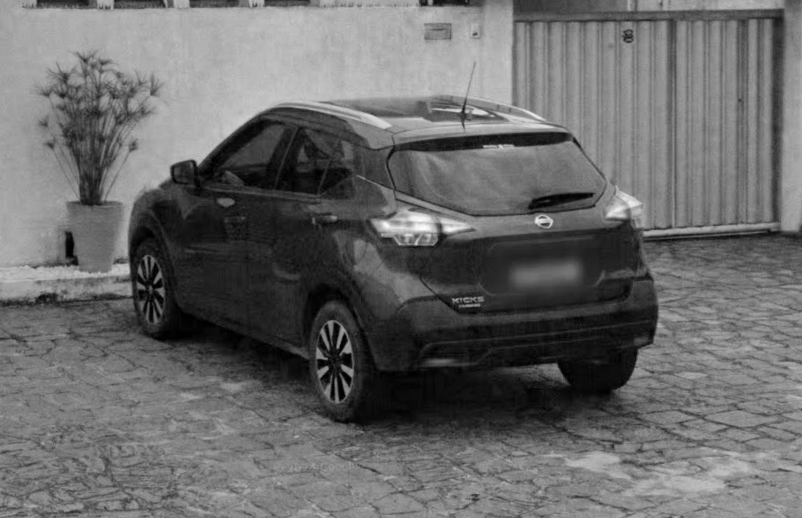car: (127, 61, 661, 420)
